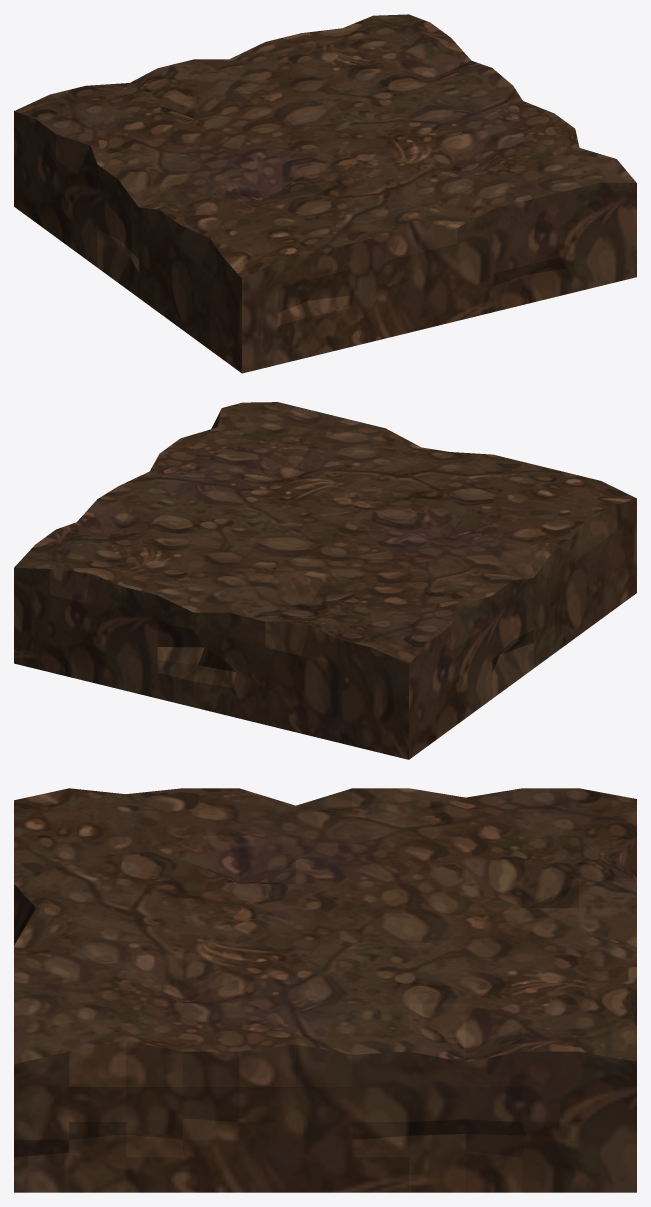
Rendered from Dirt.fbx.
3 renders of one model, top to bottom at view 1: azimuth 30°, elevation 25°; view 2: azimuth 150°, elevation 25°; view 3: azimuth 270°, elevation 25°, orthographic. The views are drawn at different scales.
Parts seen in each view (by area): view 1: Dirt; view 2: Dirt; view 3: Dirt.
Boxes of the visible parts, x1,y1,x2,y2 form: Dirt: (14, 14, 636, 373); Dirt: (14, 402, 636, 759); Dirt: (14, 788, 636, 1192).
Size of the model in its own units: 25 by 100 by 100.
Materials: 1 (1 with a texture image).
